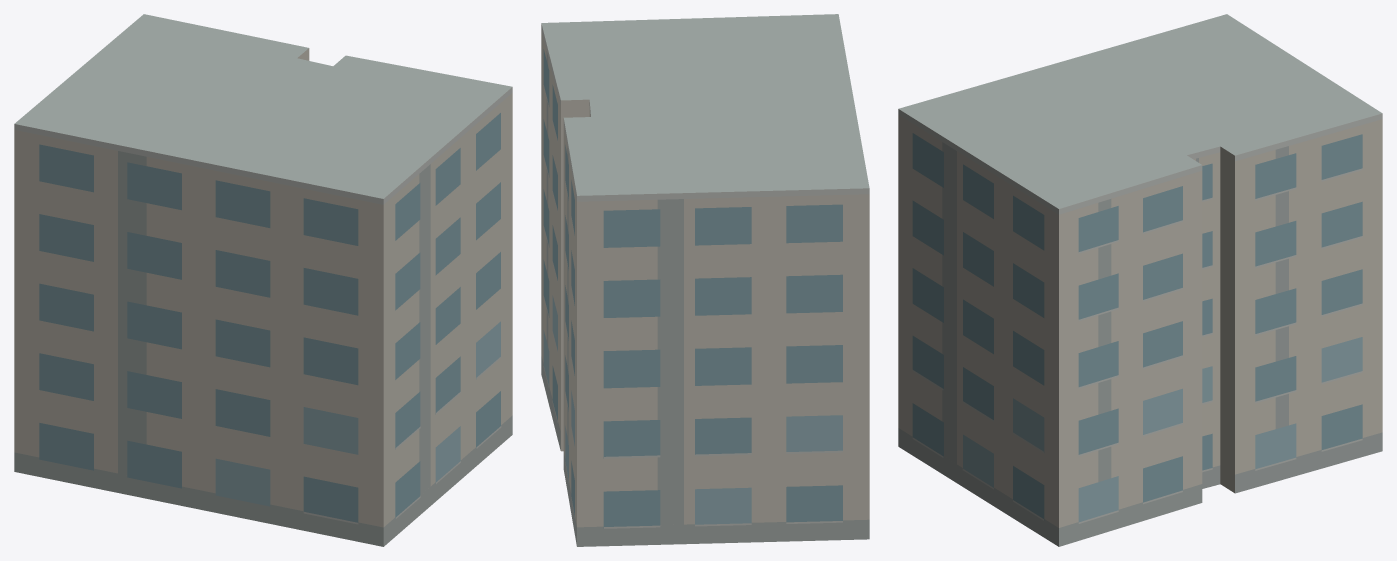
The model's file is survey-upis-32883355.glb.
The picture shows the model from 3 angles, left to right: view 1: azimuth 30°, elevation 25°; view 2: azimuth 150°, elevation 25°; view 3: azimuth 270°, elevation 25°; orthographic projection. The views are drawn at different scales.
Parts seen in each view (by area): view 1: survey-upis-32883355.tmp; view 2: survey-upis-32883355.tmp; view 3: survey-upis-32883355.tmp.
Part boxes in pixels (bbox=[...]): survey-upis-32883355.tmp: bbox=[14, 14, 512, 546]; survey-upis-32883355.tmp: bbox=[541, 14, 869, 546]; survey-upis-32883355.tmp: bbox=[898, 14, 1382, 546].
Bounding box in the file's own units: 17.91 × 14.45 × 18.79.
